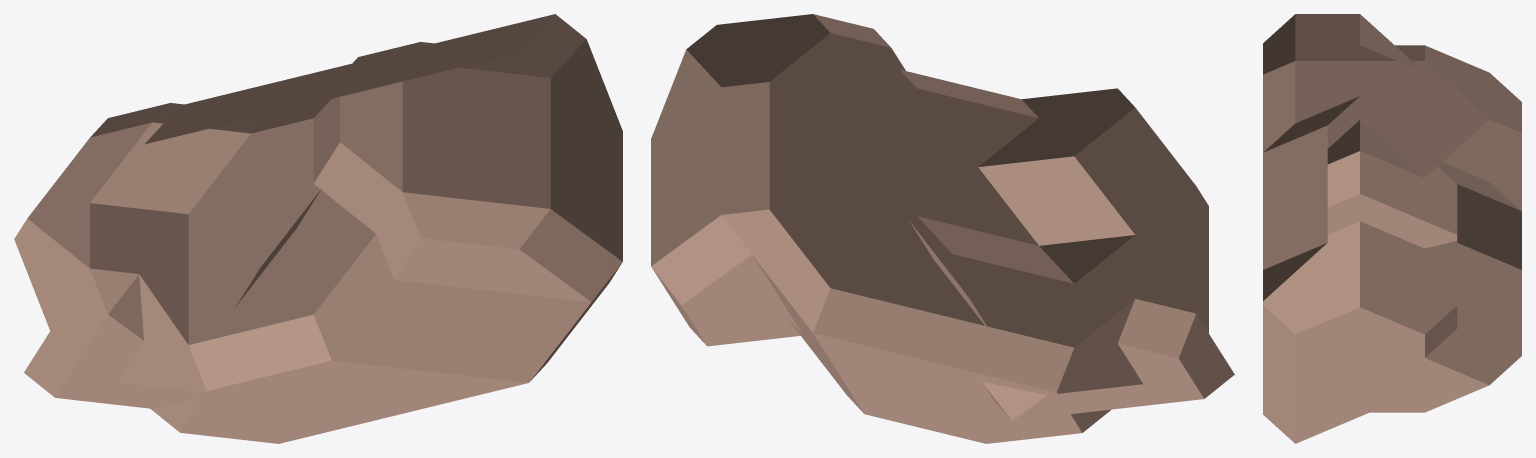
File: region_0031_Ctub__commissure_of_the_posterior_tuberculum_.glb
3 renders of one model, left to right at view 1: azimuth 30°, elevation 25°; view 2: azimuth 150°, elevation 25°; view 3: azimuth 270°, elevation 25°, orthographic. The views are drawn at different scales.
Parts seen in each view (by area): view 1: world; view 2: world; view 3: world.
Boxes of the visible parts, bbox=[...] form: world: bbox=[14, 14, 622, 443]; world: bbox=[651, 14, 1234, 443]; world: bbox=[1263, 14, 1521, 443].
Bounding box in the file's own units: 0.072 × 0.04 × 0.032.
